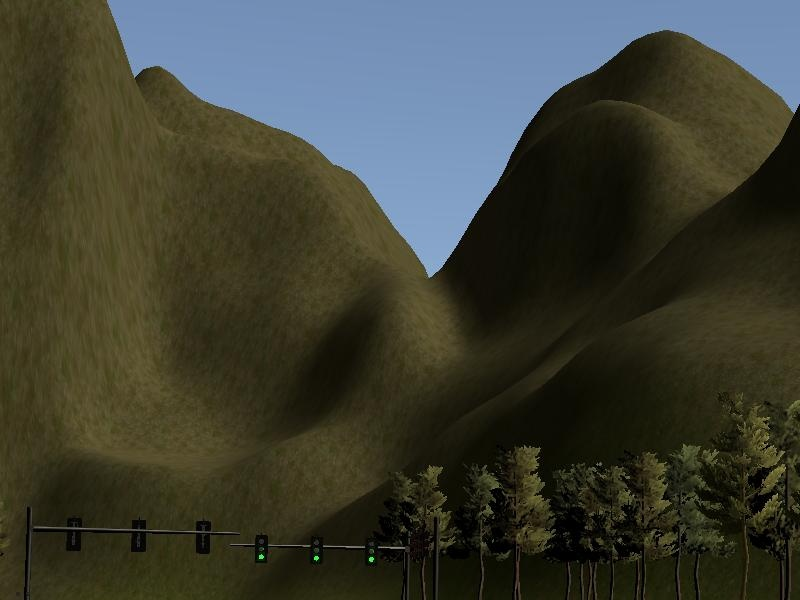green: (308, 532, 322, 566), (363, 537, 378, 568), (252, 534, 268, 562)
